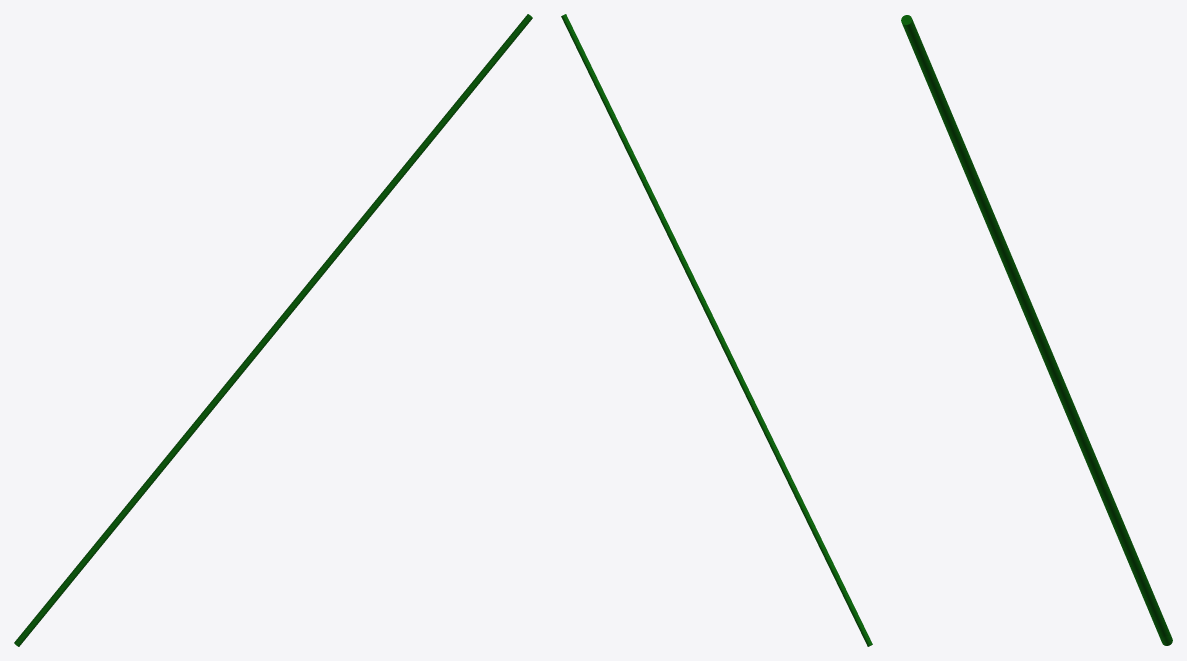
Rendered from Event_421127236_jet_0.fbx.
The picture shows the model from 3 angles, left to right: view 1: azimuth 30°, elevation 25°; view 2: azimuth 150°, elevation 25°; view 3: azimuth 270°, elevation 25°; orthographic projection. The views are drawn at different scales.
Parts seen in each view (by area): view 1: Model; view 2: Model; view 3: Model.
Boxes of the visible parts, x1,y1,x2,y2 form: Model: (14, 14, 532, 646); Model: (561, 14, 872, 646); Model: (901, 15, 1172, 645).
Size of the model in its own units: 3.07 by 3.86 by 0.961.
